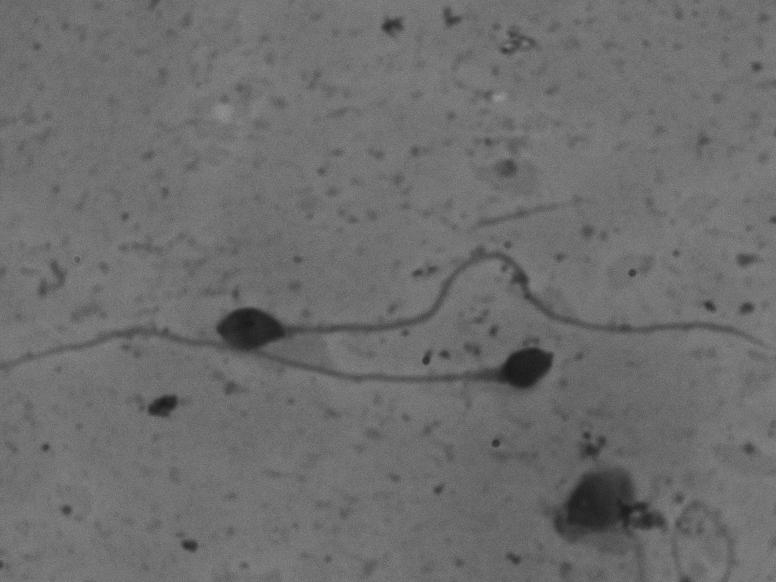Abnormal: (198, 238, 765, 372)
